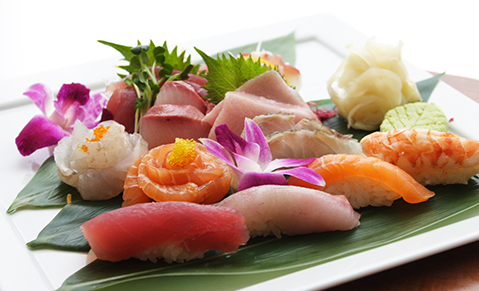burger: (79, 200, 250, 265)
